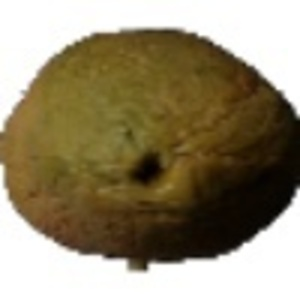mamão: (3, 22, 292, 261)
